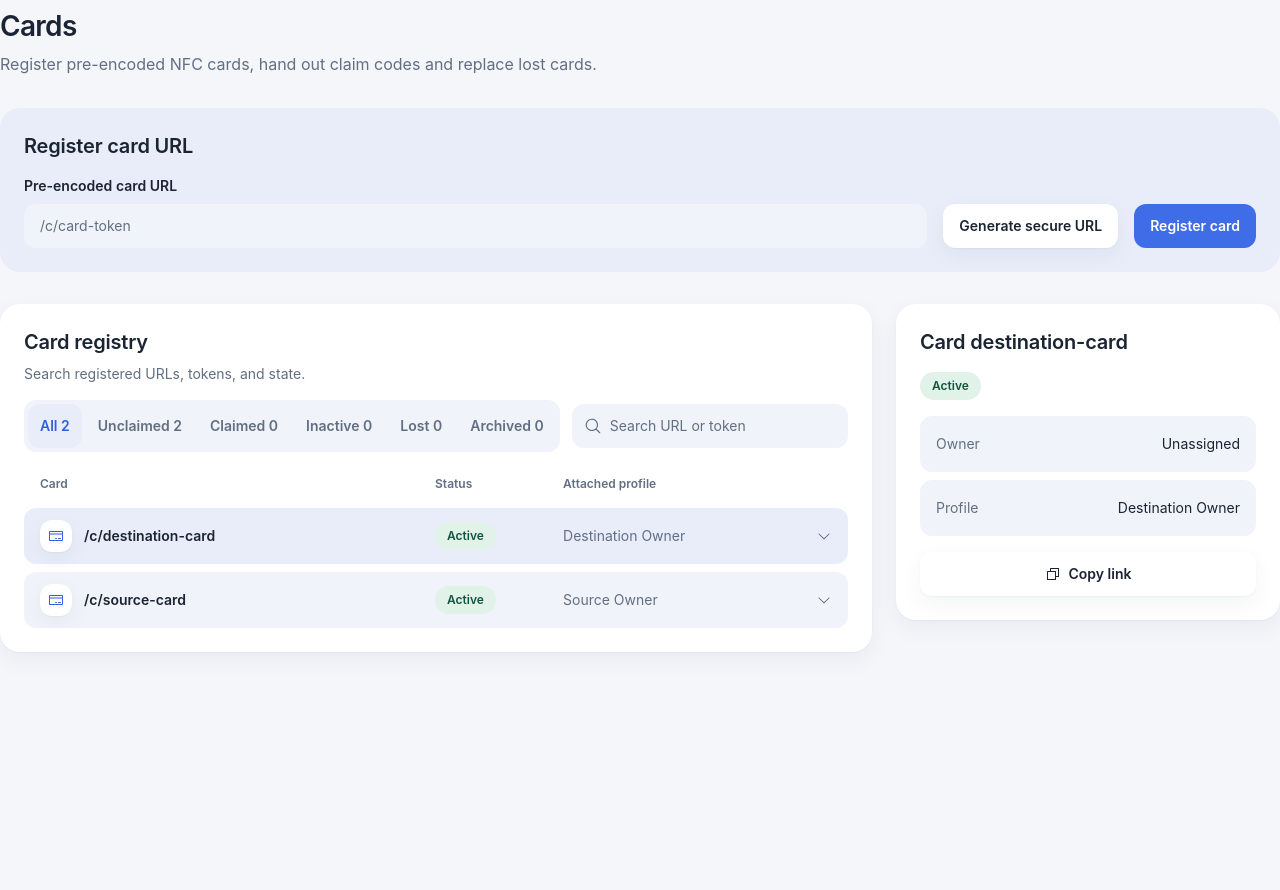
Test: live card URL mutations › confirms and reassigns an assigned active card, including to an already-carded profile
Click the text "/c/source-card": point(135, 600) [84,590,186,610]
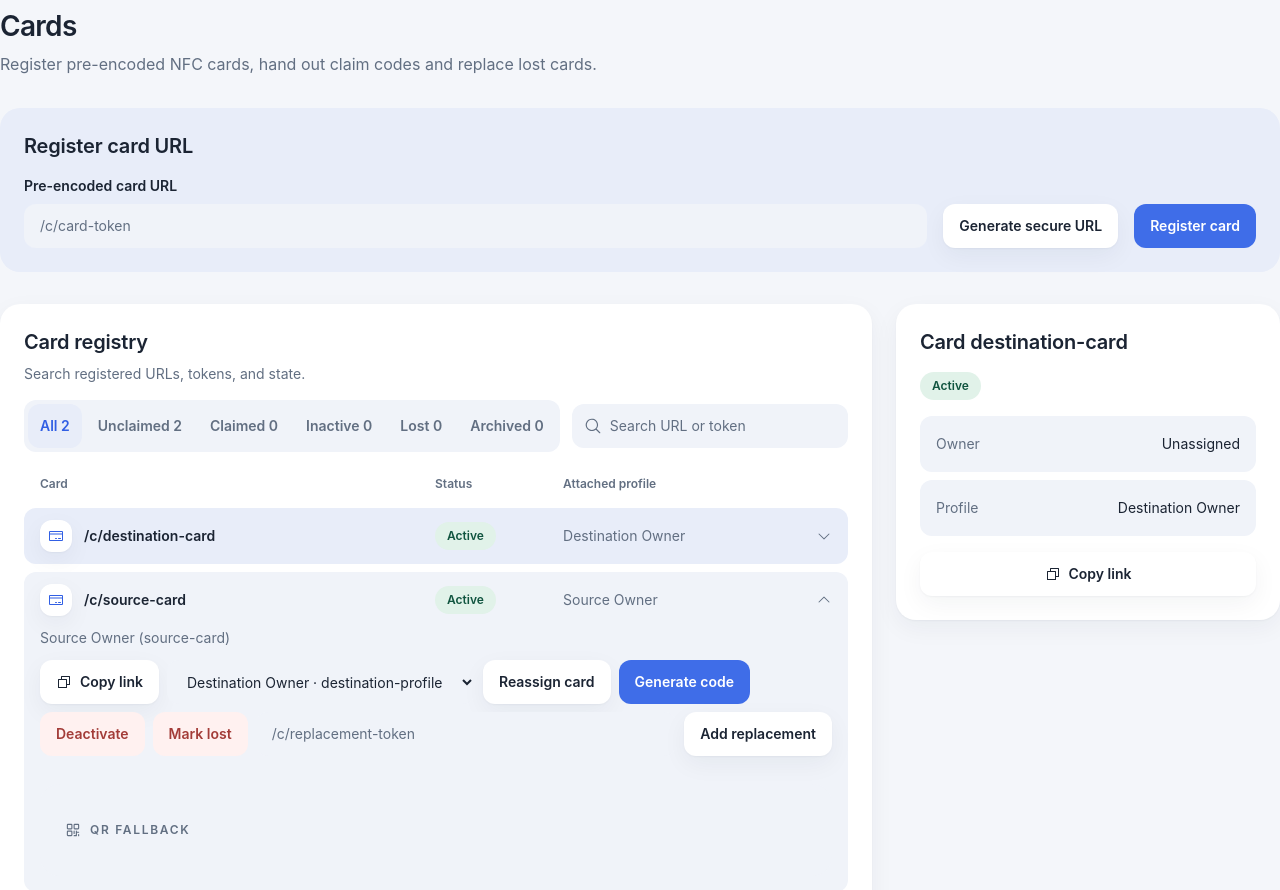
Click the button "Generate code": point(684, 682) [619,660,750,704]
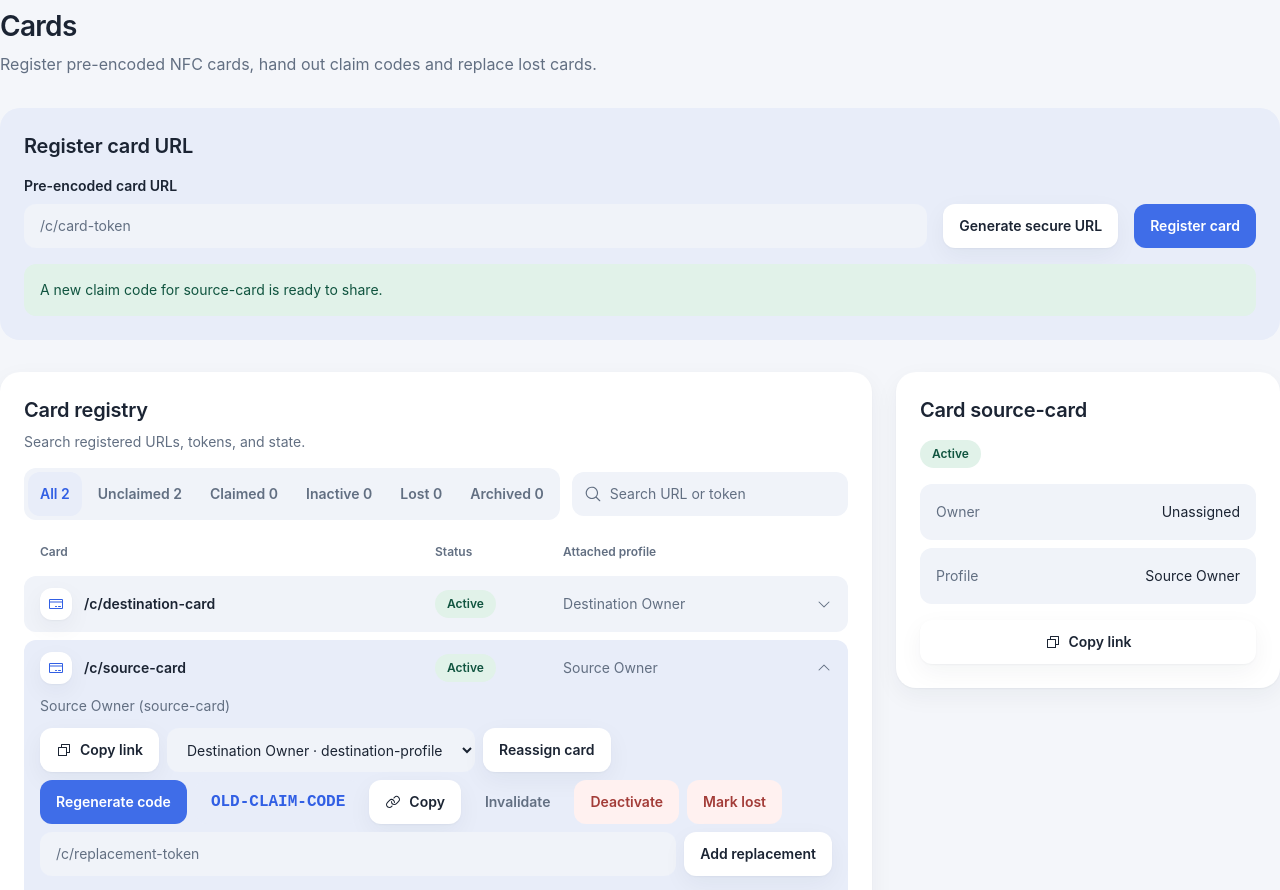
Result: the text "OLD-CLAIM-CODE" is shown at [195,780,361,824]
Click the button "Reassign card": point(547, 750) [483,728,611,772]
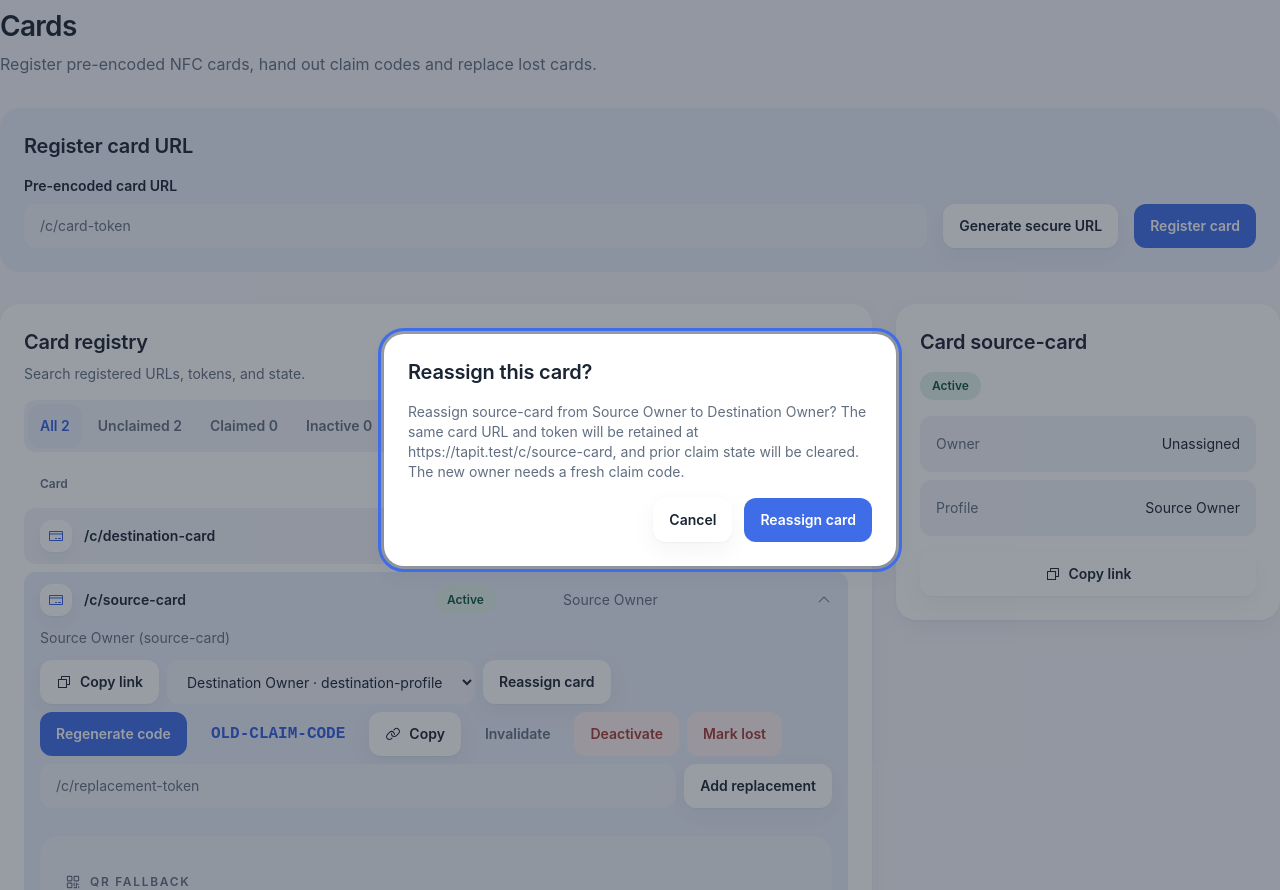
Result: the dialog shows "Source Owner" at [408,403,866,480]
Result: the dialog shows "Destination Owner" at [408,403,866,480]
Result: the dialog shows "same card URL and token will be retained" at [408,403,866,480]
Click the button "Reassign card": point(808, 520) [744,498,872,542]
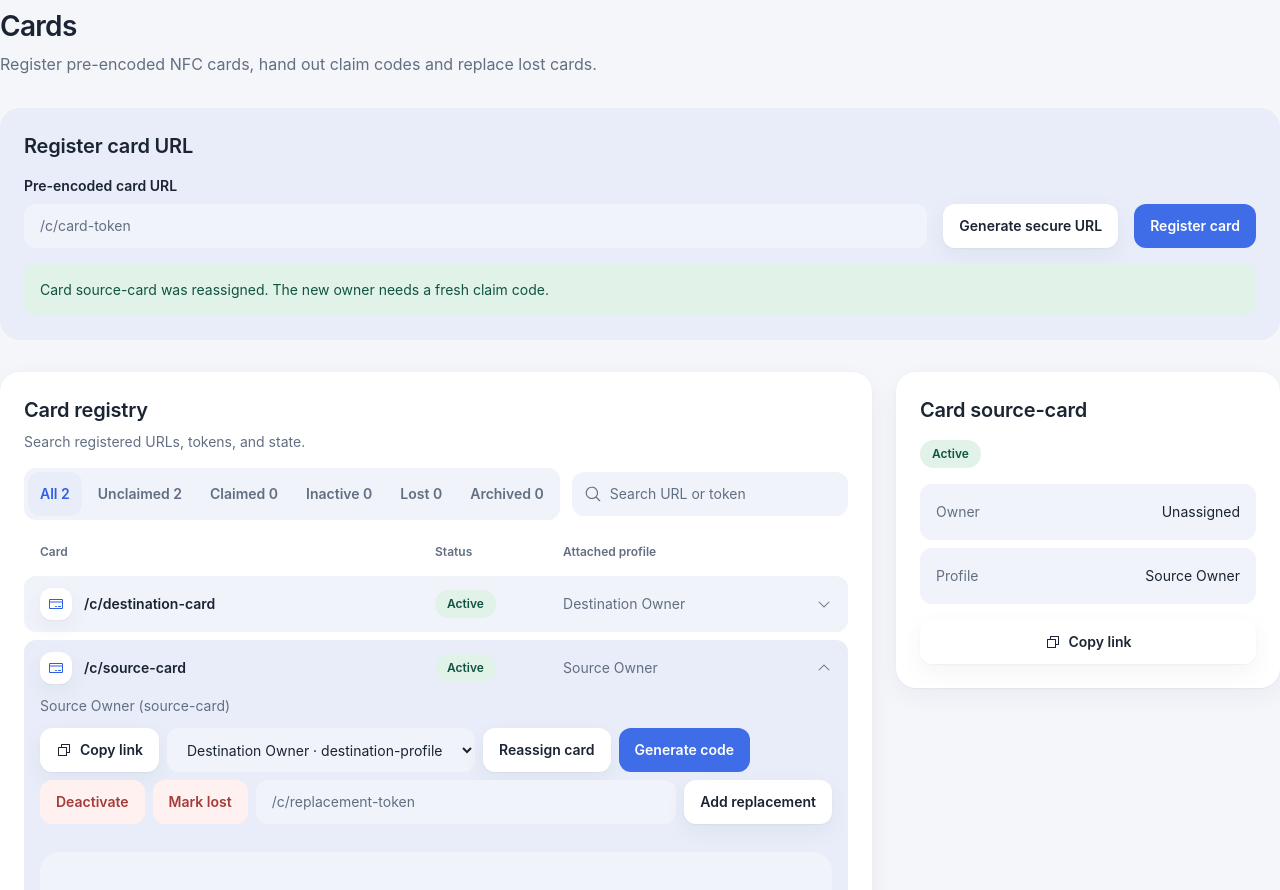
Result: the message shows "was reassigned. The new owner needs a fresh claim code." at [40,281,549,298]
Result: the text "OLD-CLAIM-CODE" is gone
Result: the dialog is gone
